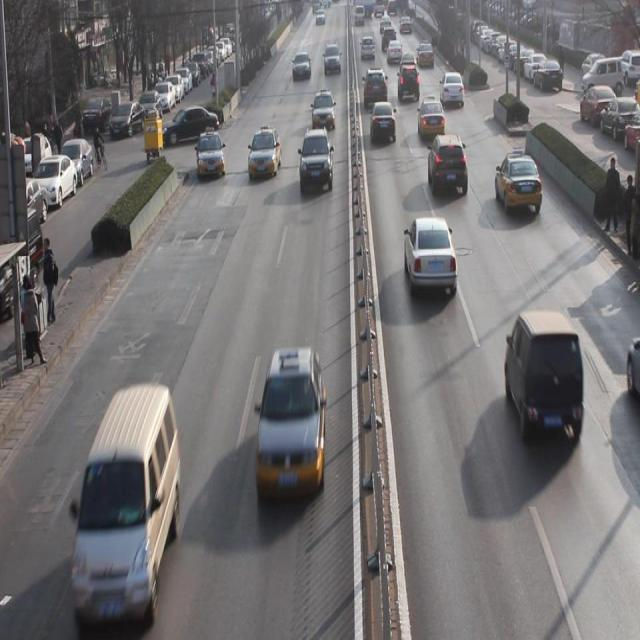car: (260, 346, 327, 498), (403, 215, 458, 298), (495, 149, 542, 217), (429, 130, 468, 197), (300, 130, 335, 194), (248, 127, 283, 181), (371, 97, 398, 147), (195, 132, 225, 176), (420, 97, 448, 139), (364, 66, 389, 108), (310, 90, 336, 128), (398, 64, 422, 102), (441, 72, 465, 108), (292, 51, 312, 82), (323, 43, 341, 76)
truck: (80, 389, 184, 620), (503, 309, 586, 441)
